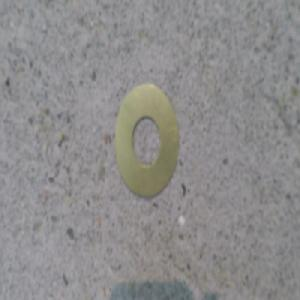Washer: (115, 81, 181, 198)
